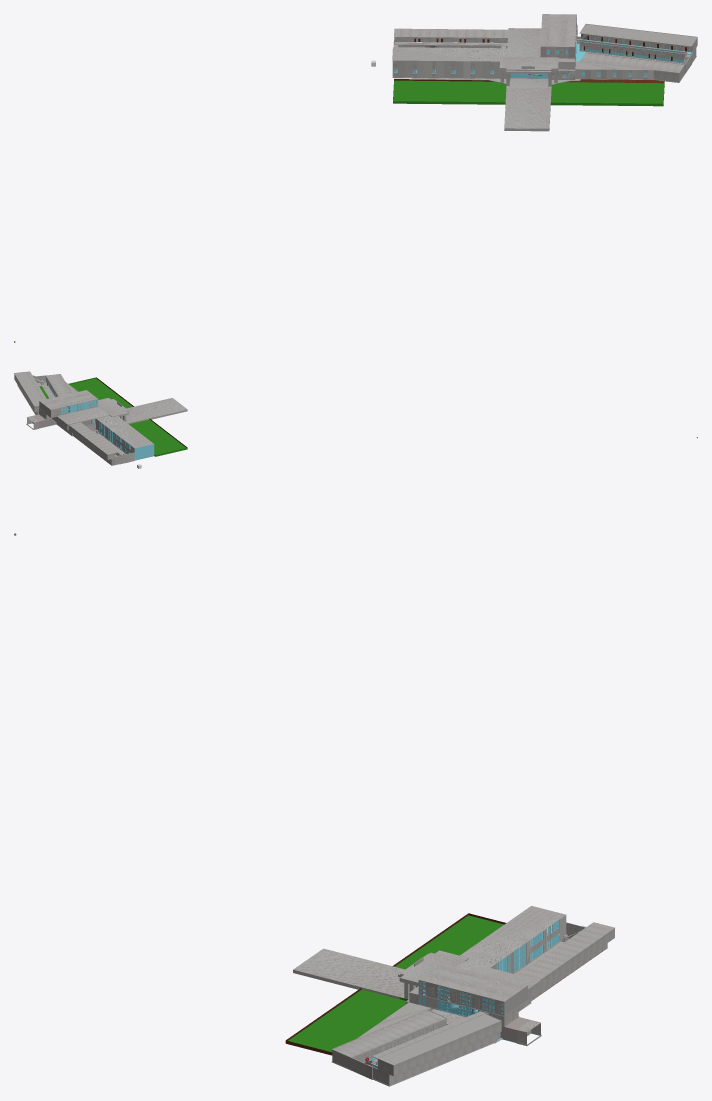
File: Toilette.gltf
3 views of the same model, one above another, from view 1: azimuth 30°, elevation 25°; view 2: azimuth 150°, elevation 25°; view 3: azimuth 270°, elevation 25° (orthographic). The views are drawn at different scales.
Visible parts, largest first — view 1: building_134.005, Cube.218, Plane.031, Plane.038, building_008.010, building_008.012, building_048.040, building_131.003, Plane.035, Cube.221, building_004.010, building_008.008 (+2 smaller); view 2: building_134.005, Cube.218, Plane.038, building_048.040, building_008.010, Cube.221, Plane.035, Plane.001, Plane.039, building_004.010, Cube.220, Plane.031 (+2 smaller); view 3: building_134.005, Cube.218, building_008.008, Plane.038, building_008.010, building_048.040, Plane.035, building_048.039, building_004.010, Plane.001, Plane.031.
Boxes of the visible parts, <box> form: building_134.005: <box>393,80,664,106</box>; Cube.218: <box>504,88,551,131</box>; Plane.031: <box>392,47,506,78</box>; Plane.038: <box>392,47,507,61</box>; building_008.010: <box>579,23,697,46</box>; building_008.012: <box>579,34,692,60</box>; building_048.040: <box>540,14,576,46</box>; building_131.003: <box>575,61,653,79</box>; Plane.035: <box>394,28,508,38</box>; Cube.221: <box>507,28,541,57</box>; building_004.010: <box>581,53,684,72</box>; building_008.008: <box>579,35,697,63</box>; building_134.005: <box>68,377,187,456</box>; Cube.218: <box>126,398,187,424</box>; Plane.038: <box>96,415,153,448</box>; building_048.040: <box>39,390,97,409</box>; building_008.010: <box>14,371,46,406</box>; Cube.221: <box>56,406,109,425</box>; Plane.035: <box>69,422,118,454</box>; Plane.001: <box>68,425,124,465</box>; Plane.039: <box>101,428,154,460</box>; building_004.010: <box>46,374,71,396</box>; Cube.220: <box>98,399,128,414</box>; Plane.031: <box>95,419,152,460</box>; building_134.005: <box>288,915,503,1052</box>; Cube.218: <box>293,948,404,998</box>; building_008.008: <box>364,1021,501,1086</box>; Plane.038: <box>460,906,566,967</box>; building_008.010: <box>372,1011,501,1065</box>; building_048.040: <box>419,963,527,1001</box>; Plane.035: <box>518,922,614,980</box>; building_048.039: <box>418,980,528,1016</box>; building_004.010: <box>333,1010,445,1057</box>; Plane.001: <box>531,926,614,1000</box>; Plane.031: <box>490,915,566,973</box>.
Size of the model in its own units: 412 by 14.88 by 226.
Materials: 324 (323 with a texture image).
